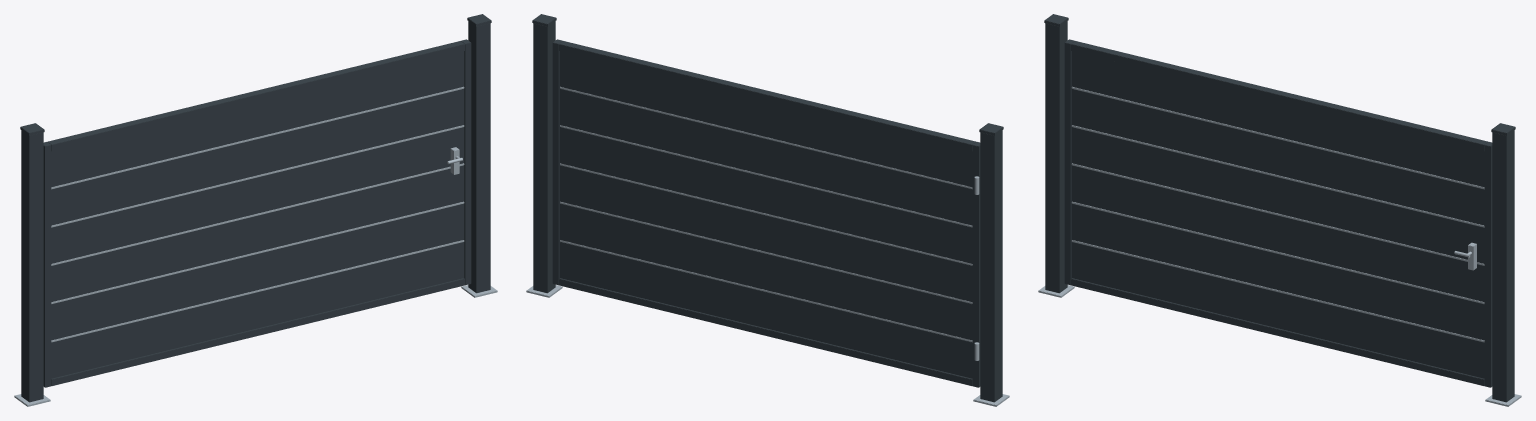
The model's file is 05-jednokrilna.glb.
3 views of the same model, side by side, from view 1: azimuth 30°, elevation 25°; view 2: azimuth 150°, elevation 25°; view 3: azimuth 330°, elevation 25° (orthographic).
Visible parts, largest first — view 1: Ispuna_antracit_panel.006, Ispuna_antracit_panel.010, Ispuna_antracit_panel.007, Ispuna_antracit_panel.008, Ispuna_antracit_panel.009, Ispuna_antracit_panel.011, Stub_levi.017, Stub_desni.017, Ram_gornji.016, Ram_donji.016, Ram_bocni.032, Ram_bocni.033 (+5 smaller); view 2: Ispuna_antracit_panel.006, Ispuna_antracit_panel.010, Ispuna_antracit_panel.009, Ispuna_antracit_panel.008, Ispuna_antracit_panel.007, Ispuna_antracit_panel.011, Stub_levi.017, Stub_desni.017, Ram_gornji.016, Ram_donji.016, Ram_bocni.032, Ram_bocni.033 (+5 smaller); view 3: Ispuna_antracit_panel.006, Ispuna_antracit_panel.010, Ispuna_antracit_panel.007, Ispuna_antracit_panel.008, Ispuna_antracit_panel.009, Ispuna_antracit_panel.011, Stub_desni.017, Stub_levi.017, Ram_gornji.016, Ram_donji.016, Ram_bocni.033, Ram_bocni.032 (+5 smaller).
Boxes of the visible parts, x1=… form: Ispuna_antracit_panel.006: x1=51, y1=242, x2=463, y2=378; Ispuna_antracit_panel.010: x1=51, y1=88, x2=463, y2=225; Ispuna_antracit_panel.007: x1=51, y1=203, x2=463, y2=340; Ispuna_antracit_panel.008: x1=51, y1=165, x2=463, y2=301; Ispuna_antracit_panel.009: x1=51, y1=127, x2=463, y2=263; Ispuna_antracit_panel.011: x1=51, y1=51, x2=463, y2=187; Stub_levi.017: x1=21, y1=130, x2=43, y2=402; Stub_desni.017: x1=468, y1=21, x2=490, y2=293; Ram_gornji.016: x1=47, y1=41, x2=464, y2=151; Ram_donji.016: x1=51, y1=278, x2=464, y2=385; Ram_bocni.032: x1=43, y1=142, x2=51, y2=387; Ram_bocni.033: x1=461, y1=39, x2=471, y2=285; Ispuna_antracit_panel.006: x1=560, y1=241, x2=972, y2=378; Ispuna_antracit_panel.010: x1=560, y1=88, x2=972, y2=225; Ispuna_antracit_panel.009: x1=560, y1=127, x2=972, y2=263; Ispuna_antracit_panel.008: x1=560, y1=165, x2=972, y2=301; Ispuna_antracit_panel.007: x1=560, y1=203, x2=972, y2=340; Ispuna_antracit_panel.011: x1=560, y1=51, x2=972, y2=187; Stub_levi.017: x1=980, y1=130, x2=1002, y2=402; Stub_desni.017: x1=533, y1=21, x2=555, y2=293; Ram_gornji.016: x1=559, y1=41, x2=976, y2=151; Ram_donji.016: x1=559, y1=278, x2=972, y2=385; Ram_bocni.032: x1=972, y1=142, x2=980, y2=387; Ram_bocni.033: x1=552, y1=39, x2=562, y2=285; Ispuna_antracit_panel.006: x1=1072, y1=242, x2=1484, y2=378; Ispuna_antracit_panel.010: x1=1072, y1=88, x2=1484, y2=225; Ispuna_antracit_panel.007: x1=1072, y1=203, x2=1484, y2=340; Ispuna_antracit_panel.008: x1=1072, y1=165, x2=1484, y2=301; Ispuna_antracit_panel.009: x1=1072, y1=127, x2=1484, y2=263; Ispuna_antracit_panel.011: x1=1072, y1=51, x2=1484, y2=187; Stub_desni.017: x1=1492, y1=130, x2=1514, y2=402; Stub_levi.017: x1=1045, y1=21, x2=1067, y2=293; Ram_gornji.016: x1=1071, y1=41, x2=1488, y2=151; Ram_donji.016: x1=1071, y1=278, x2=1484, y2=385; Ram_bocni.033: x1=1484, y1=142, x2=1492, y2=387; Ram_bocni.032: x1=1064, y1=39, x2=1074, y2=285.
Size of the model in its own units: 3.26 by 1.8 by 0.19.
